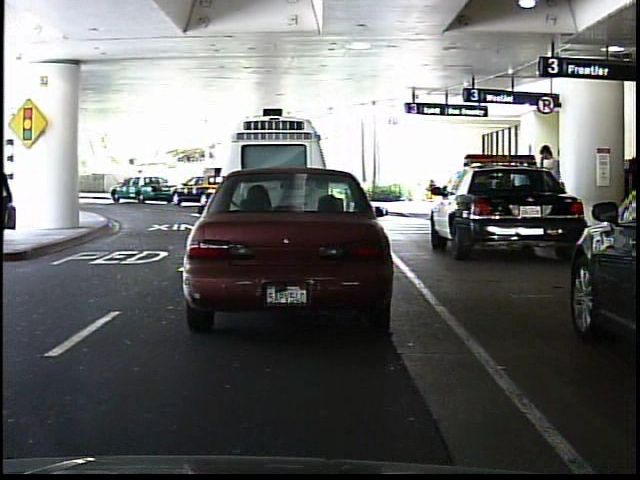car: (178, 152, 394, 337), (447, 154, 574, 264)
